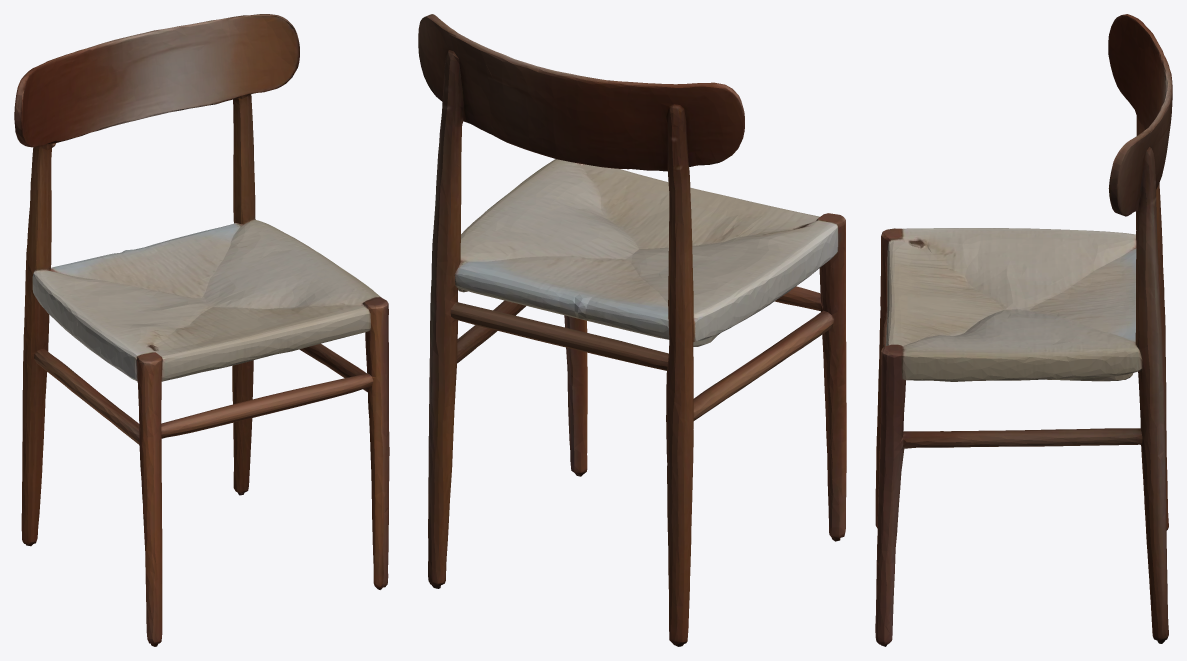
File: ast_dd77d67b65bc.glb
3 views of the same model, side by side, from view 1: azimuth 30°, elevation 25°; view 2: azimuth 150°, elevation 25°; view 3: azimuth 270°, elevation 25° (orthographic). The views are drawn at different scales.
Parts seen in each view (by area): view 1: geometry_0; view 2: geometry_0; view 3: geometry_0.
Part boxes in pixels (x1,y1,x2,y2): geometry_0: (14,14,389,646); geometry_0: (418,14,846,646); geometry_0: (875,14,1172,646).
Bounding box in the file's own units: 0.6086 × 0.9967 × 0.5233.
Materials: 1 (1 with a texture image).
